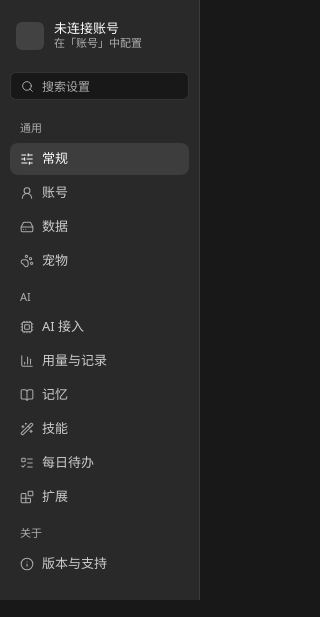
Test: SettingsNav search Escape › closes a list that has no hits the same way
Type "不存在的设置项xyz" into the dropdown labelled "搜索设置" at (112, 86), box [42, 73, 182, 99]
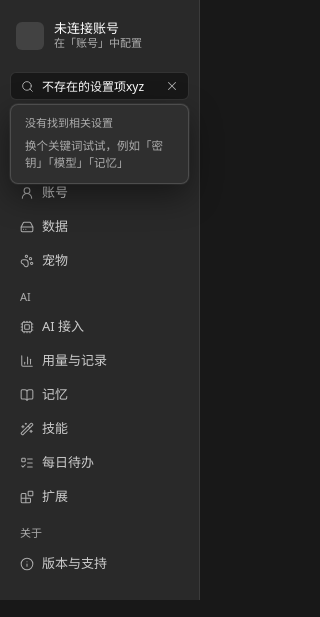
Expected: the list is shown, [10, 104, 189, 184]
Press Escape in the dropdown named "搜索设置", box [42, 73, 154, 99]
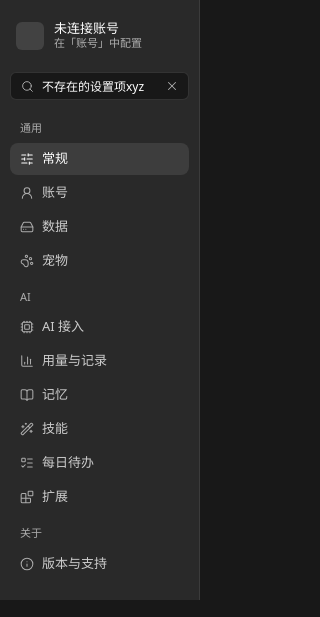
Expected: the list is gone
